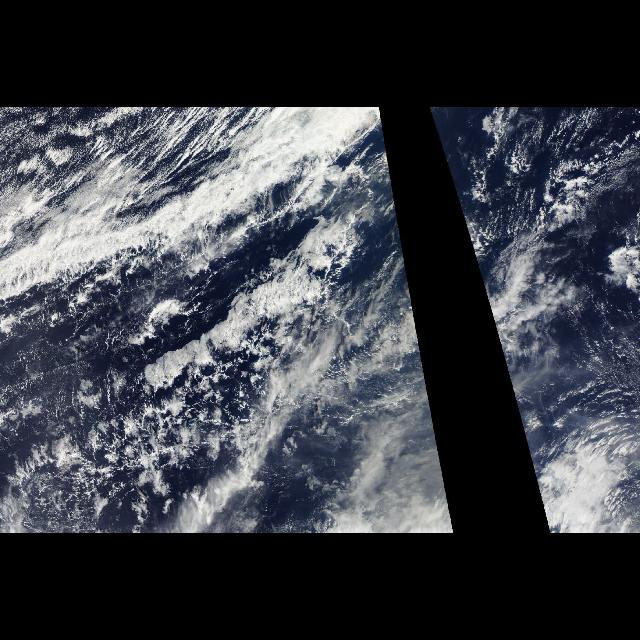Fish: (18, 110, 264, 252)
Gravel: (12, 344, 256, 512)
